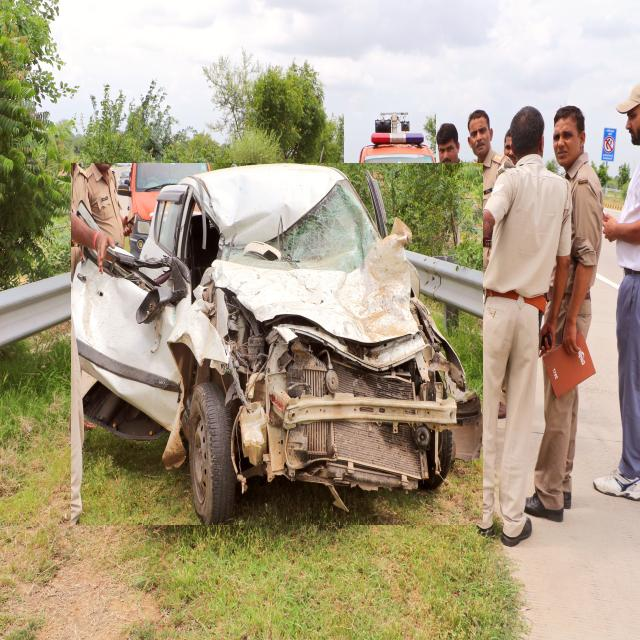accident: (71, 163, 482, 525), (434, 431, 438, 437)
car: (344, 113, 436, 236)
